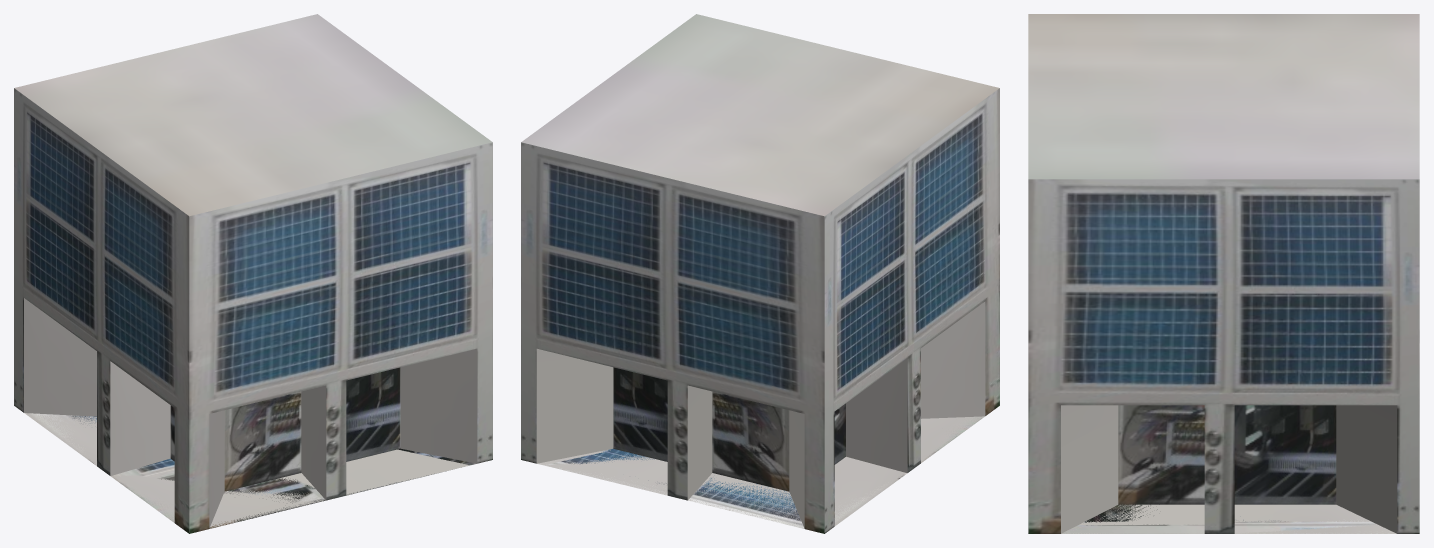
Rendered from yk_katto_lvi_laite2.fbx.
3 renders of one model, left to right at view 1: azimuth 30°, elevation 25°; view 2: azimuth 150°, elevation 25°; view 3: azimuth 270°, elevation 25°, orthographic. The views are drawn at different scales.
Visible parts, largest first — view 1: Cube.014; view 2: Cube.014; view 3: Cube.014.
Part boxes in pixels (x1,y1,x2,y2): Cube.014: (14,14,492,533); Cube.014: (521,14,999,533); Cube.014: (1028,14,1419,533).
Size of the model in its own units: 157 by 157 by 157.
